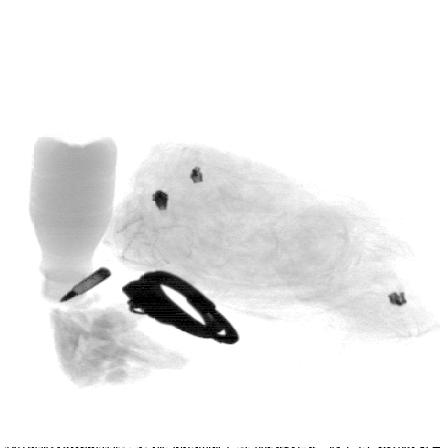Bullet: (57, 267, 114, 303)
HandCuffs: (120, 268, 240, 346)
